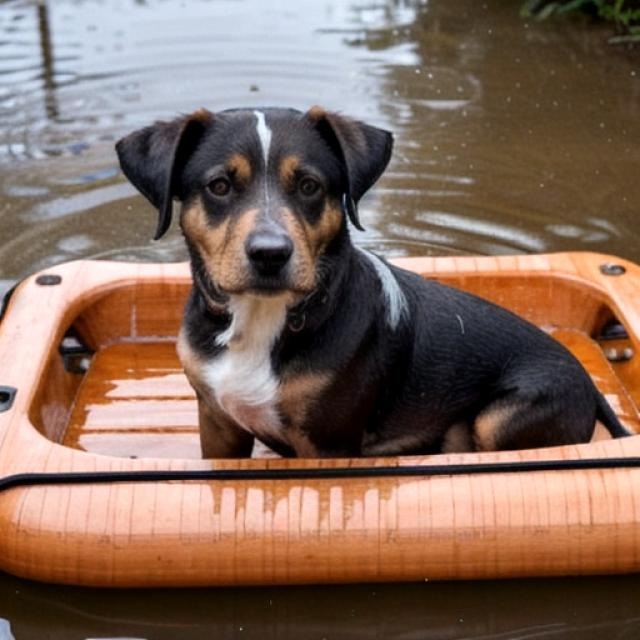dog: (98, 88, 627, 473)
